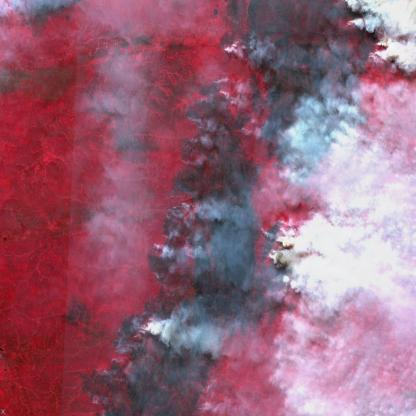fire: (337, 0, 393, 68), (258, 212, 295, 300), (110, 308, 154, 360)
